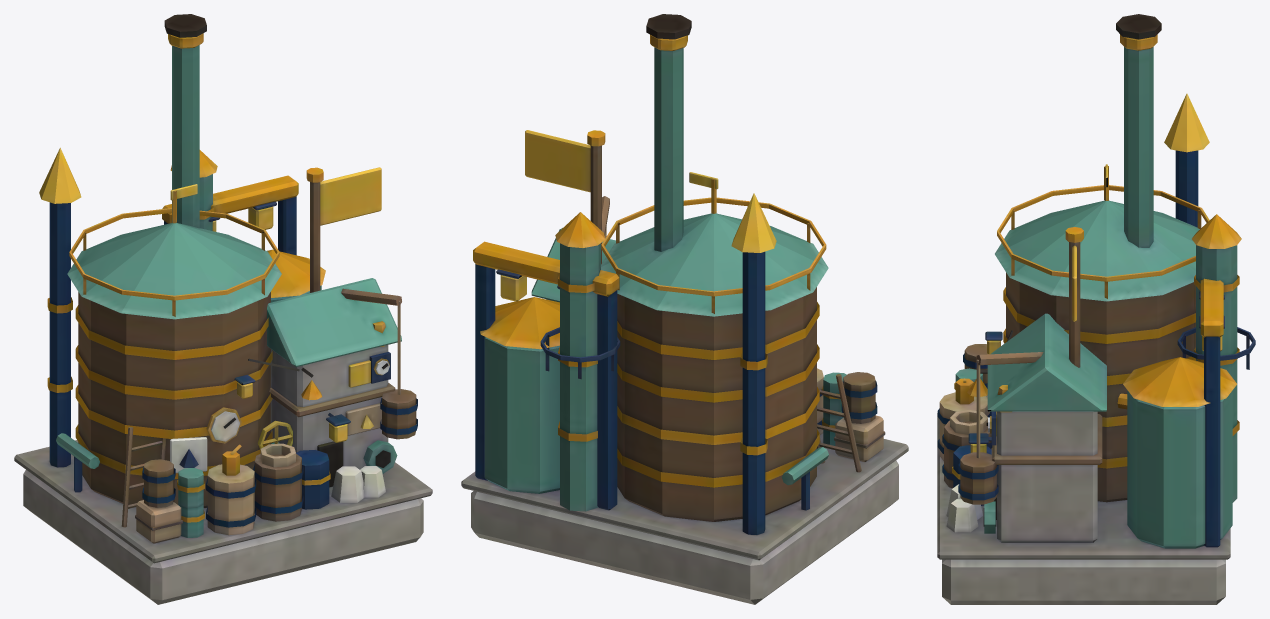
Rendered from refinery-30.glb.
The picture shows the model from 3 angles, left to right: view 1: azimuth 30°, elevation 25°; view 2: azimuth 150°, elevation 25°; view 3: azimuth 270°, elevation 25°; orthographic projection. The views are drawn at different scales.
Parts seen in each view (by area): view 1: refinery-30; view 2: refinery-30; view 3: refinery-30.
Part boxes in pixels (x1,y1,x2,y2): refinery-30: (14, 14, 432, 604); refinery-30: (461, 14, 908, 604); refinery-30: (937, 14, 1255, 604).
Size of the model in its own units: 1.55 by 2.46 by 1.39.
Materials: 1 (1 with a texture image).
